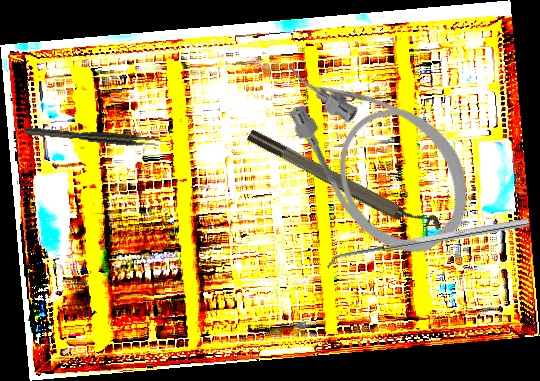Cannula: (257, 20, 494, 276)
Fixation Ring: (244, 118, 444, 245)
Spatula Surgical: (325, 218, 531, 270)
Tissue Forceps: (24, 122, 162, 150)
